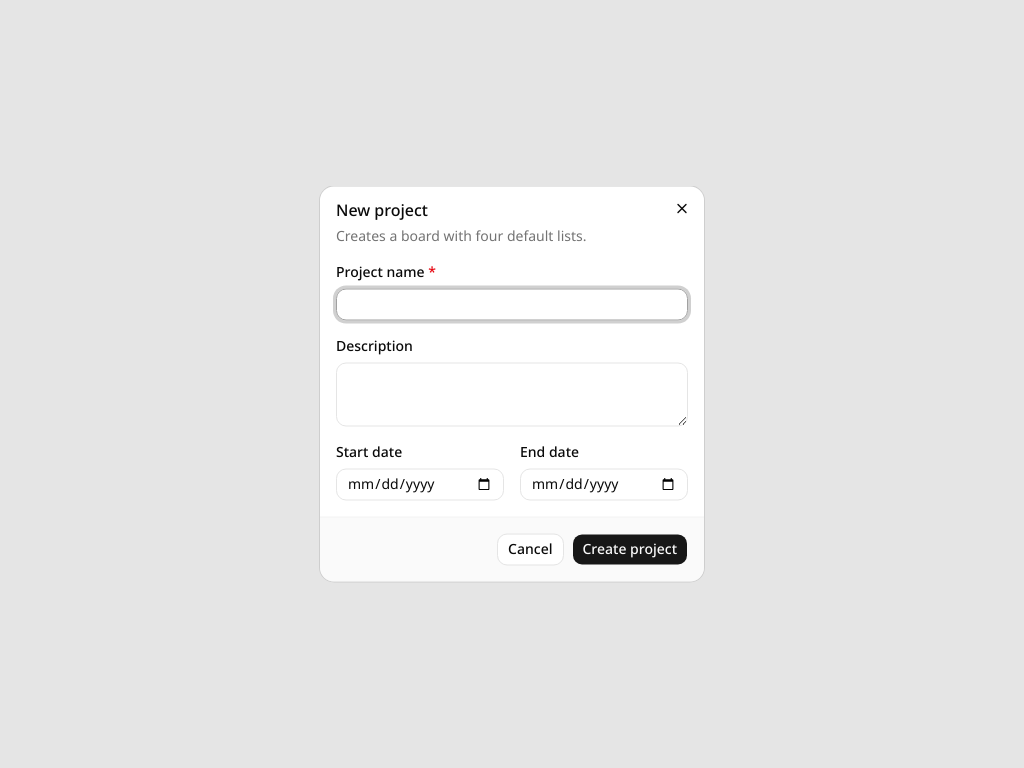
CreateProjectDialog extras › shows translated text for network_error
This screenshot has width=1024, height=768.
Type "A" into the field labelled "Project name *" at (512, 304), box [336,288,688,320]
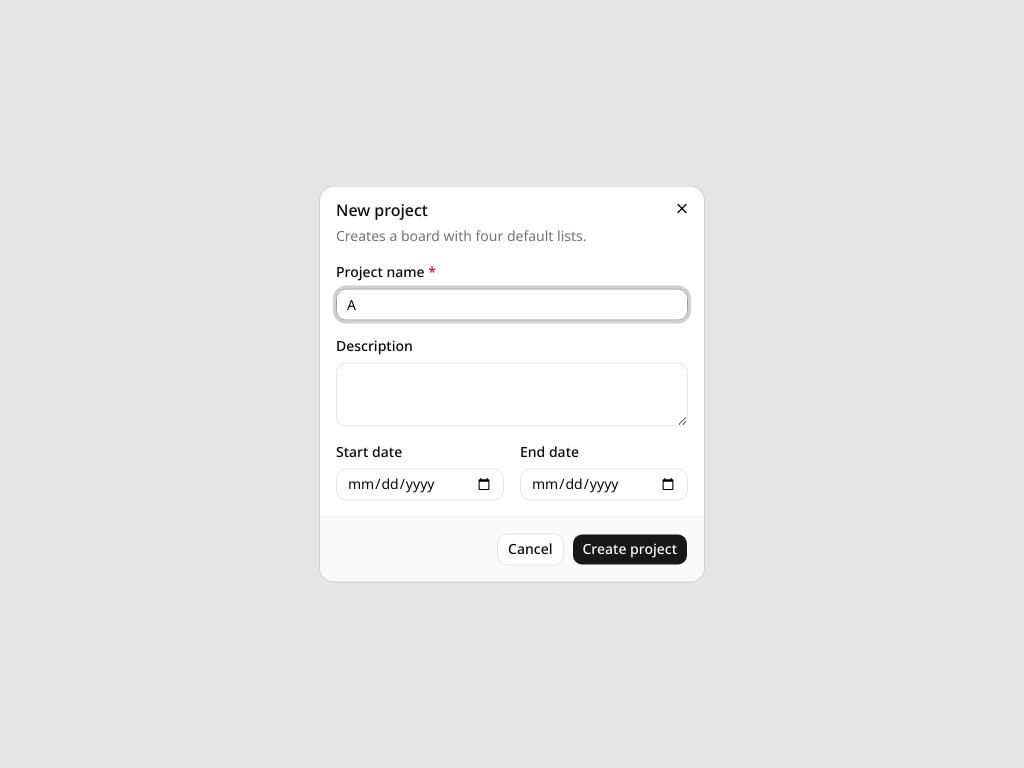
Click the button "Create project" at (630, 550), box [572,534,688,566]
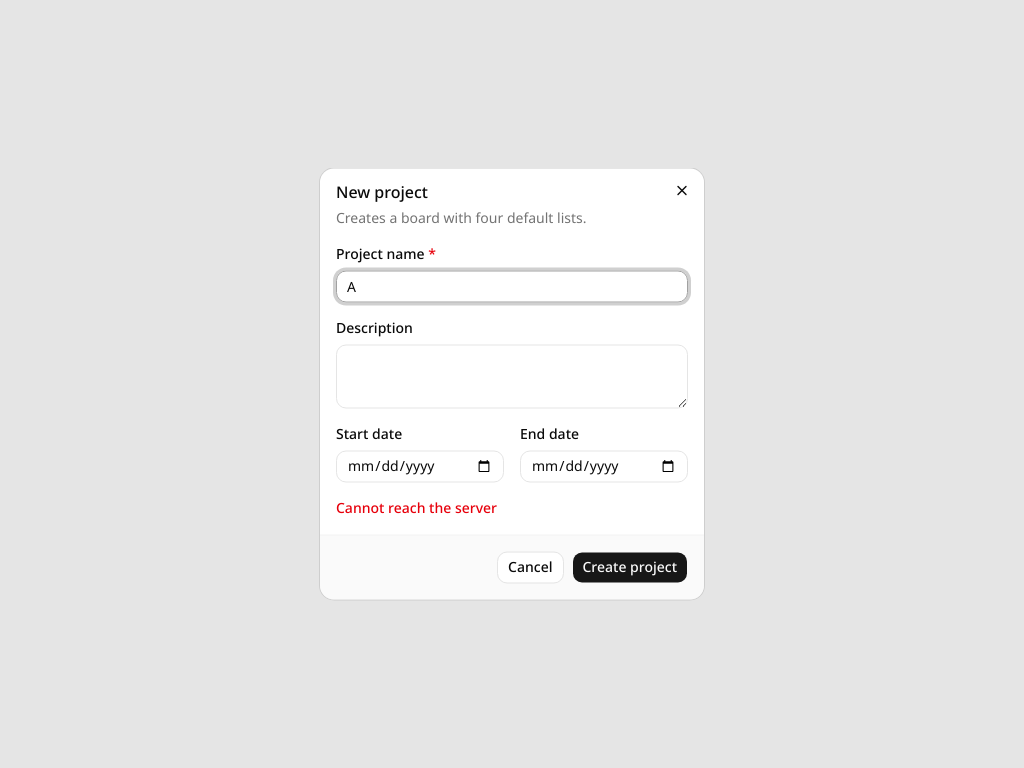
Expected: the message reads "Cannot reach the server", [336,498,497,518]
